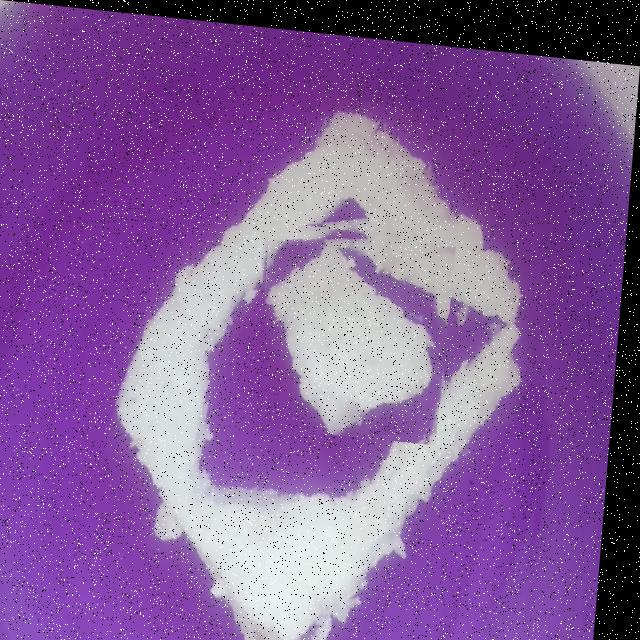thermocoal: (96, 74, 574, 640), (261, 213, 460, 436)
